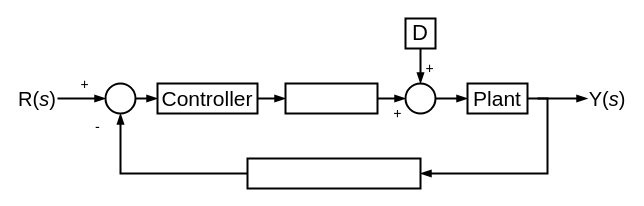
Image size: 644x206. Some labels were removed from this diagram. The centre of each missing label's shape, as x and y in pixels:
"Actuator" belongs at pixel 331 98.
"Feedback sensor" belongs at pixel 333 173.
